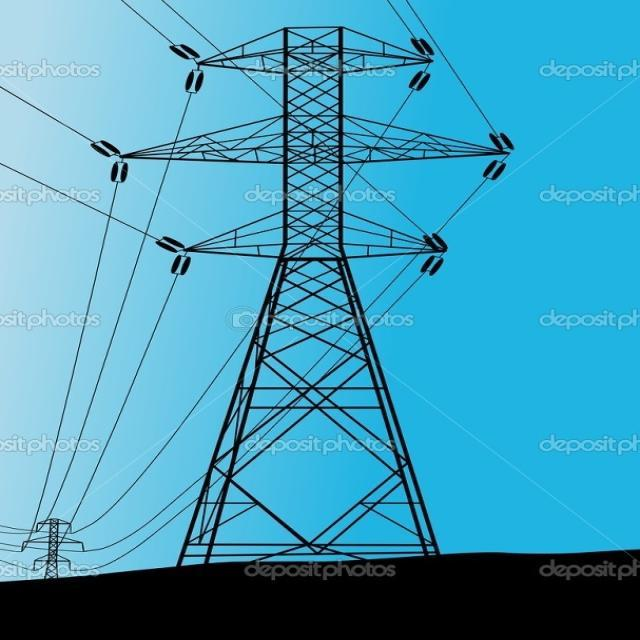non-critical vegetation: (120, 20, 499, 563)
